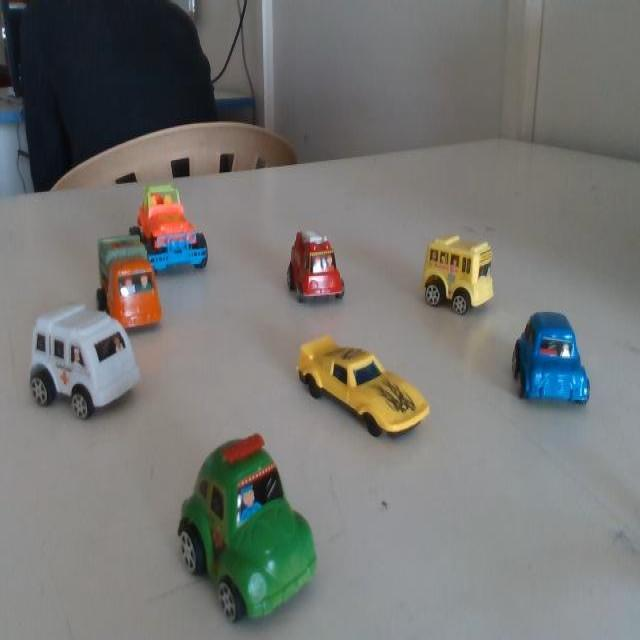car: (168, 434, 329, 628), (26, 286, 153, 442), (298, 328, 428, 448), (414, 230, 497, 326), (140, 176, 218, 275), (276, 218, 348, 322), (517, 312, 592, 409), (98, 226, 161, 336)
